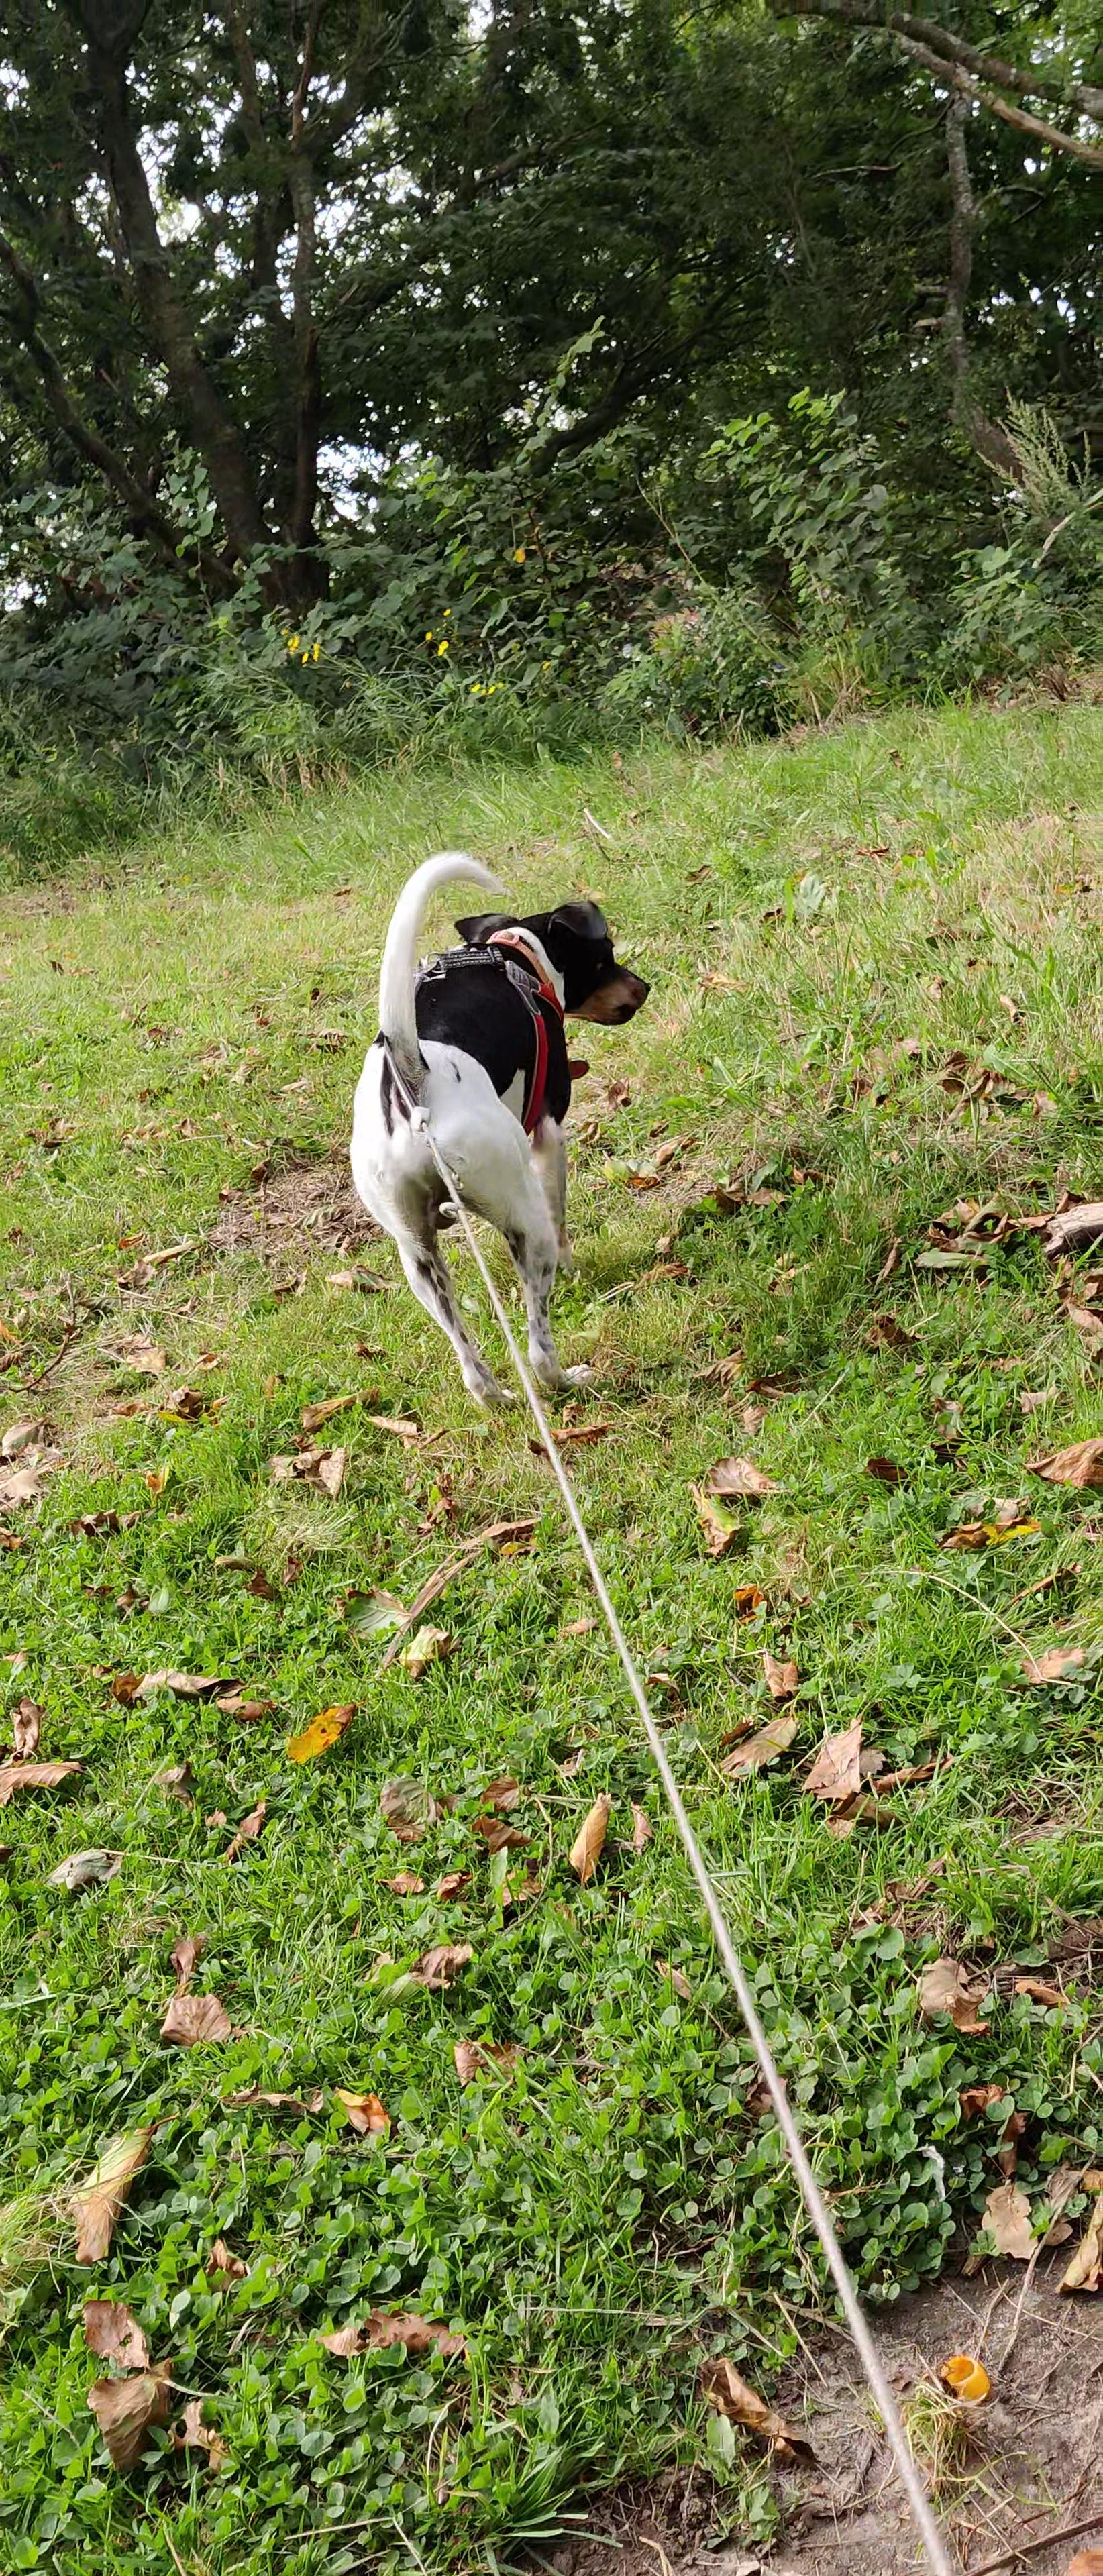Dog: (321, 835, 654, 1421)
